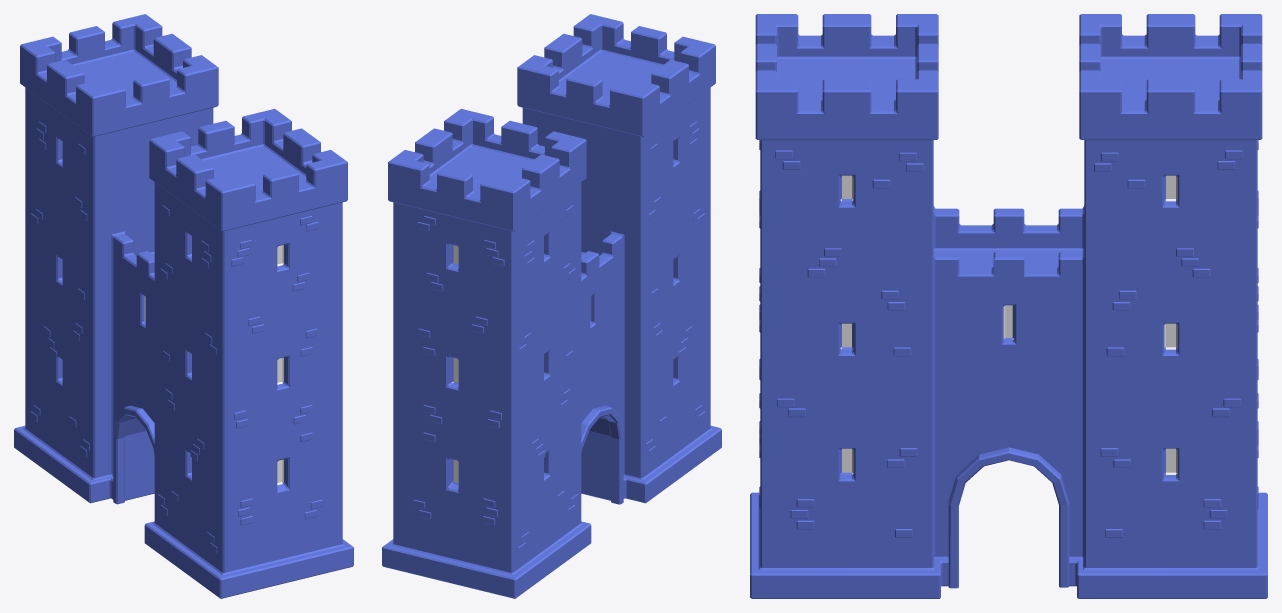
Rendered from castlelowp-transformed.glb.
The picture shows the model from 3 angles, left to right: view 1: azimuth 30°, elevation 25°; view 2: azimuth 150°, elevation 25°; view 3: azimuth 270°, elevation 25°; orthographic projection. The views are drawn at different scales.
Visible parts, largest first — view 1: main, bricks; view 2: main, bricks; view 3: main, bricks.
Boxes of the visible parts, x1,y1,x2,y2 form: main: [14, 14, 353, 598]; bricks: [30, 121, 322, 553]; main: [382, 14, 721, 598]; bricks: [413, 121, 705, 553]; main: [750, 14, 1267, 598]; bricks: [759, 140, 1258, 588].
Size of the model in its own units: 2.24 by 6.45 by 5.98.
